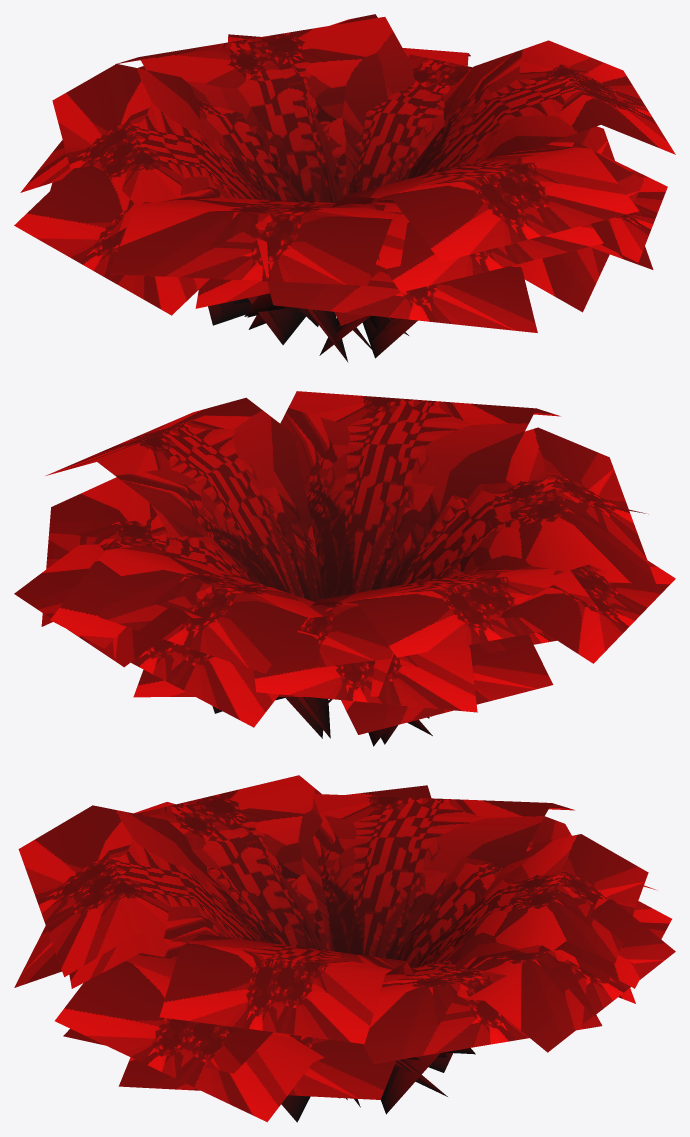
The model's file is bush_beach_seaholly_a_lod2.glb.
The picture shows the model from 3 angles, top to bottom: view 1: azimuth 30°, elevation 25°; view 2: azimuth 150°, elevation 25°; view 3: azimuth 270°, elevation 25°; orthographic projection. The views are drawn at different scales.
Visible parts, largest first — view 1: bush_beach_seaholly_a; view 2: bush_beach_seaholly_a; view 3: bush_beach_seaholly_a.
Boxes of the visible parts, <box> form: bush_beach_seaholly_a: <box>14,14,675,362</box>; bush_beach_seaholly_a: <box>14,391,675,746</box>; bush_beach_seaholly_a: <box>14,775,675,1122</box>.
Bounding box in the file's own units: 1.25 × 0.4663 × 1.22.
1 material, 1 textured.
